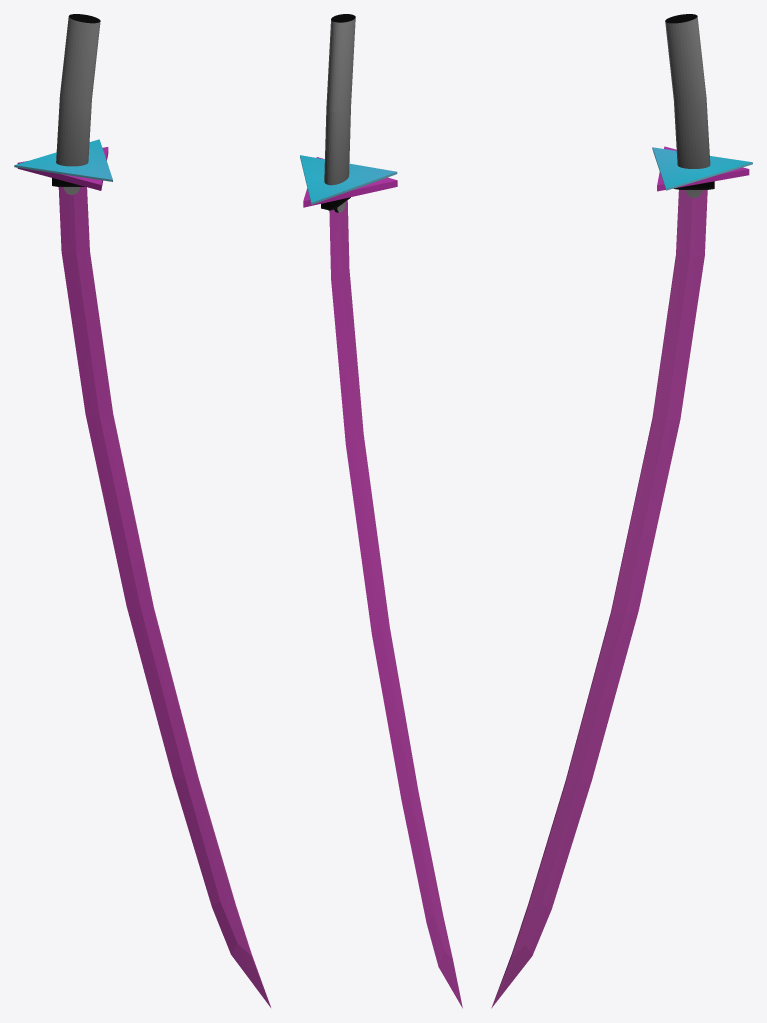
File: EspadaKaede.fbx
The picture shows the model from 3 angles, left to right: view 1: azimuth 90°, elevation 25°; view 2: azimuth 150°, elevation 25°; view 3: azimuth 270°, elevation 25°; orthographic projection. The views are drawn at different scales.
Visible parts, largest first — view 1: KatanaKaede; view 2: KatanaKaede; view 3: KatanaKaede.
Part boxes in pixels (box(x1,y1,x2,y2)): KatanaKaede: box(14, 14, 270, 1007); KatanaKaede: box(300, 14, 462, 1008); KatanaKaede: box(491, 14, 752, 1008).
Bounding box in the file's own units: 12.1 × 127 × 30.11.
Materials: 1 (1 with a texture image).
